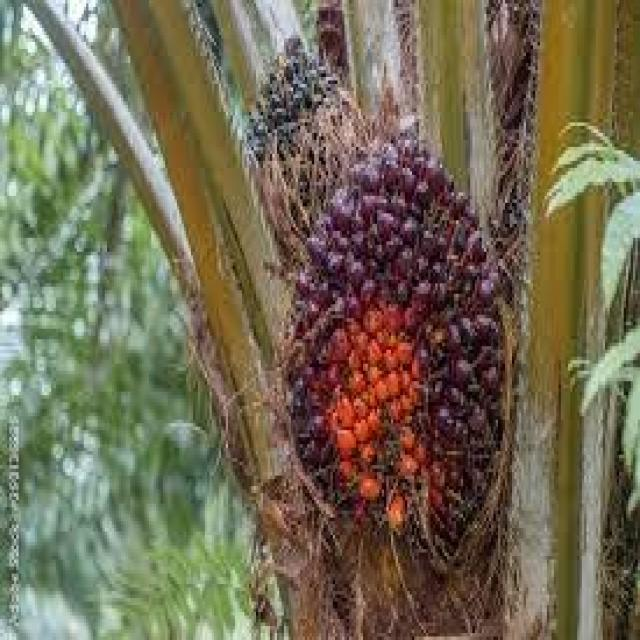Ripefruit: (284, 131, 505, 554)
